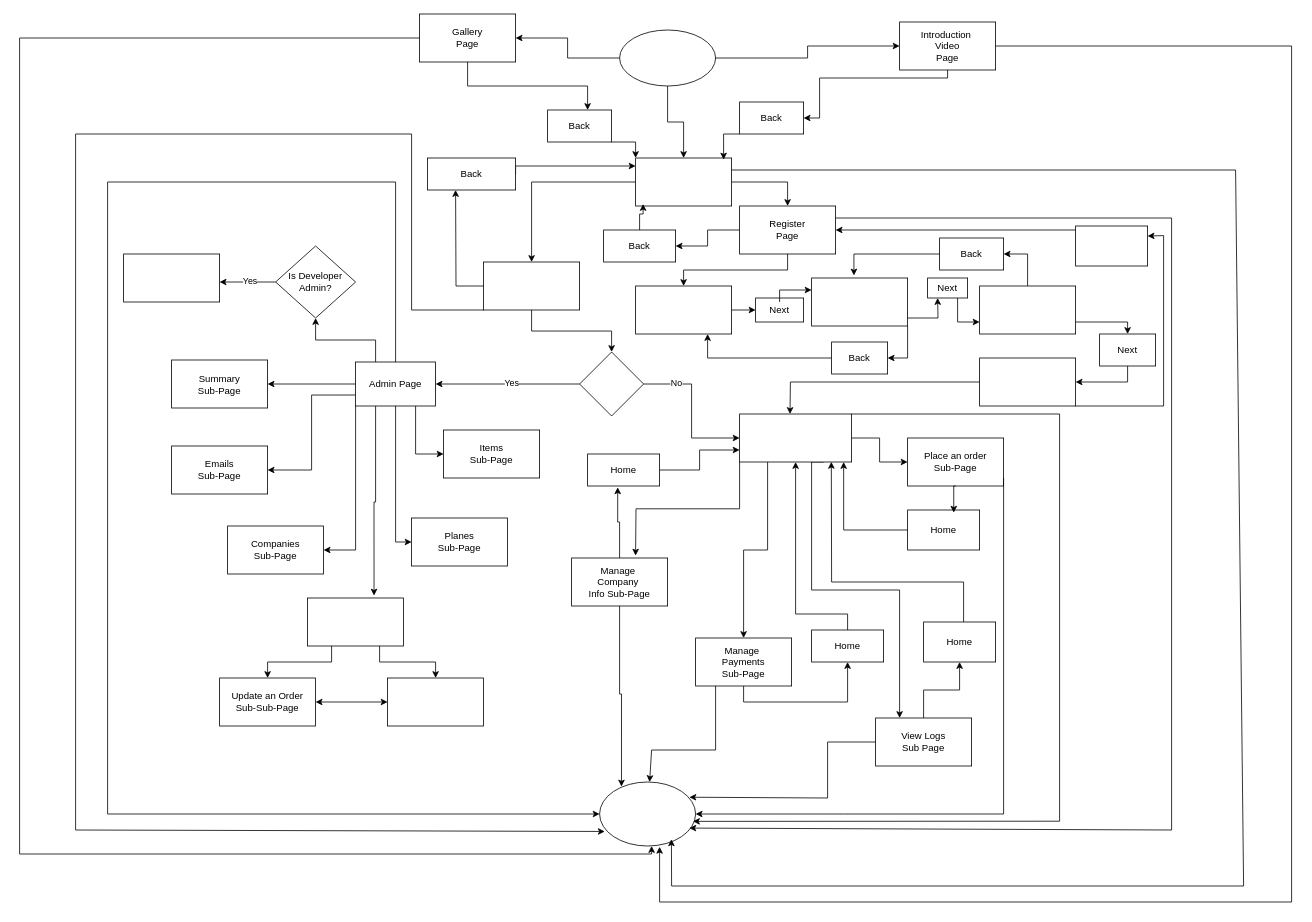
The diagram is 1312 pixels wide and 922 high, and some of its shapes have lost their labels. The centre of each missing label's shape, as x and y in pixels:
Are you an Admin?: the point at 611,383
Comapy Details Sub-Page: the point at 683,309
Confirmation Sub-page: the point at 1027,381
Contact Information Sub-Page: the point at 859,301
Custom Page Sub-Page: the point at 171,277
End: the point at 647,813
Home Page: the point at 795,437
Last Info Sub-Page: the point at 1027,309
Login Page: the point at 531,285
Order Output Sub-Sub-Page: the point at 435,701
Orders Sub-Page: the point at 355,621
Restart Registration Back: the point at 1111,245
Start: the point at 667,57
Welcome Page: the point at 683,181
